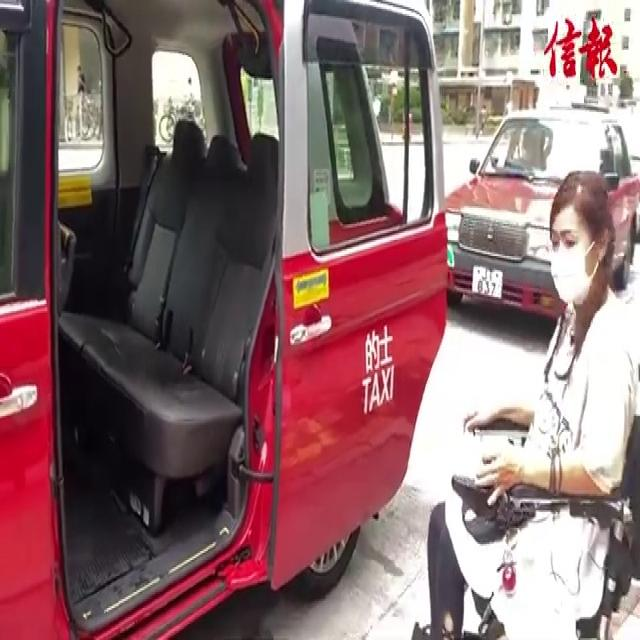wheelchairs: (423, 391, 640, 640)
